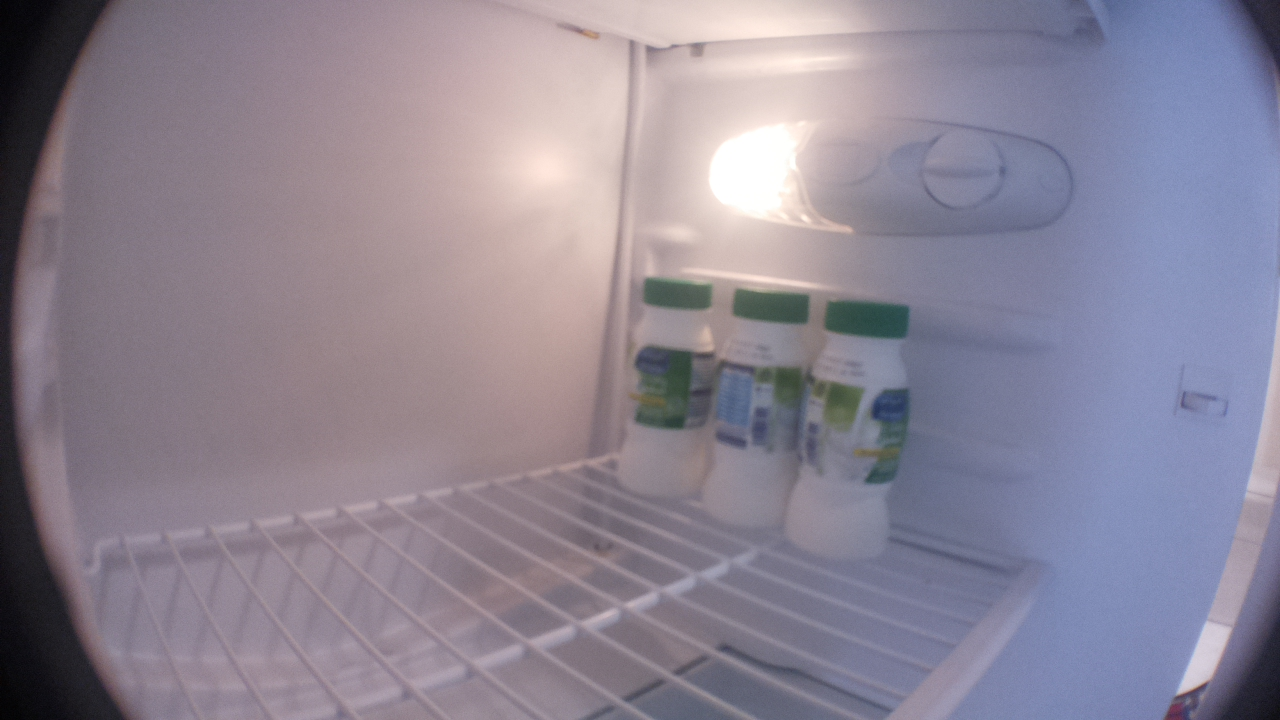laban: (787, 298, 914, 559), (700, 289, 815, 528), (621, 267, 713, 504)
